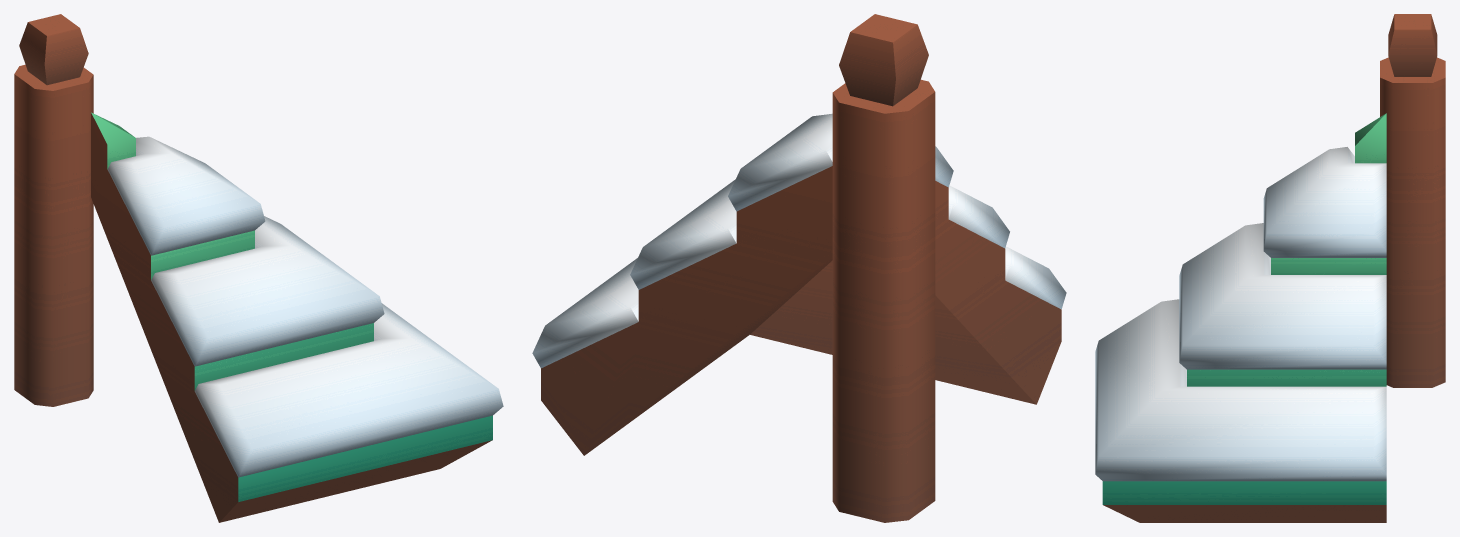
The model's file is cabin-roof-snow-corner.glb.
3 renders of one model, left to right at view 1: azimuth 30°, elevation 25°; view 2: azimuth 150°, elevation 25°; view 3: azimuth 270°, elevation 25°, orthographic. The views are drawn at different scales.
Parts seen in each view (by area): view 1: cabin-roof-snow-corner; view 2: cabin-roof-snow-corner; view 3: cabin-roof-snow-corner.
Part boxes in pixels (left/top/right/bottom): cabin-roof-snow-corner: left=14, top=14, right=503, bottom=522; cabin-roof-snow-corner: left=532, top=14, right=1066, bottom=522; cabin-roof-snow-corner: left=1095, top=14, right=1445, bottom=522.
Bounding box in the file's own units: 4.01 × 4.87 × 4.01.
1 material, 1 textured.
